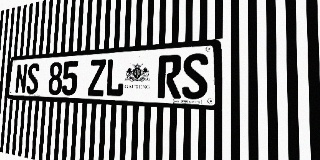5: (62, 61, 78, 95)
8: (48, 61, 63, 95)
L: (105, 58, 125, 97)
N: (15, 64, 28, 94)
R: (157, 54, 182, 99)
S: (182, 53, 208, 100), (26, 63, 40, 94)
Z: (88, 59, 106, 96)
